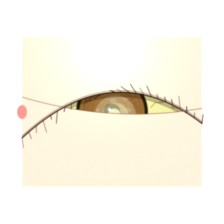corneal_ulcer: (93, 98, 137, 134)
